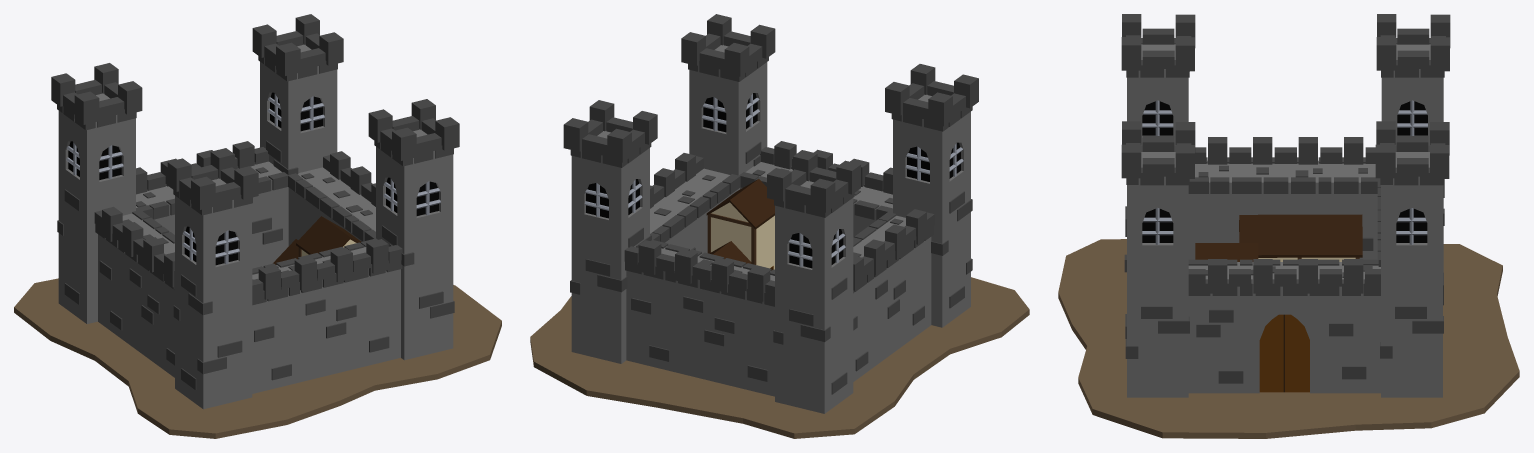
Rendered from StrongholdFinal.fbx.
3 views of the same model, side by side, from view 1: azimuth 30°, elevation 25°; view 2: azimuth 150°, elevation 25°; view 3: azimuth 270°, elevation 25° (orthographic). The views are drawn at different scales.
Visible parts, largest first — view 1: Cube.1074; view 2: Cube.1074; view 3: Cube.1074.
Boxes of the visible parts, x1,y1,x2,y2 form: Cube.1074: (14,14,501,438); Cube.1074: (530,14,1029,438); Cube.1074: (1058,14,1519,438).
Bounding box in the file's own units: 92.98 × 56.68 × 93.19.
